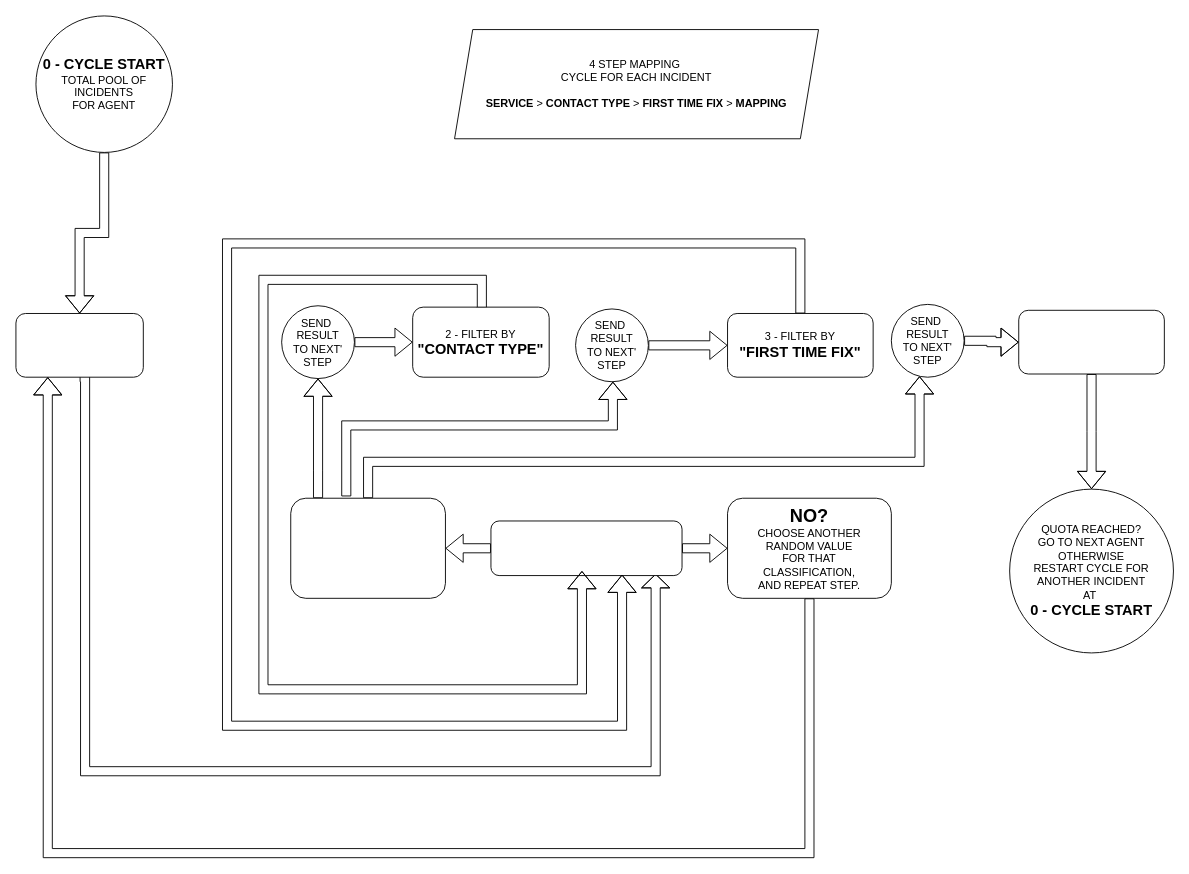
Some shapes in this 1189 by 874 pixel diagram are drawn without their labels. The shapes that lost their labels are listed below. From the top down, each one's centre as x and y in pixels, then its label:
pixel 79 345: 1 - FILTER BY "SERVICE"
pixel 1091 341: 4 - MAP INCIDENT. CYCLE CONCLUDED
pixel 367 547: YES? GO TO NEXT STEP TO FILTER FURTHER
pixel 586 548: FOUND INCIDENTS MATCHING SPECIFIED VALUE FOR CLASSIFICATION?
